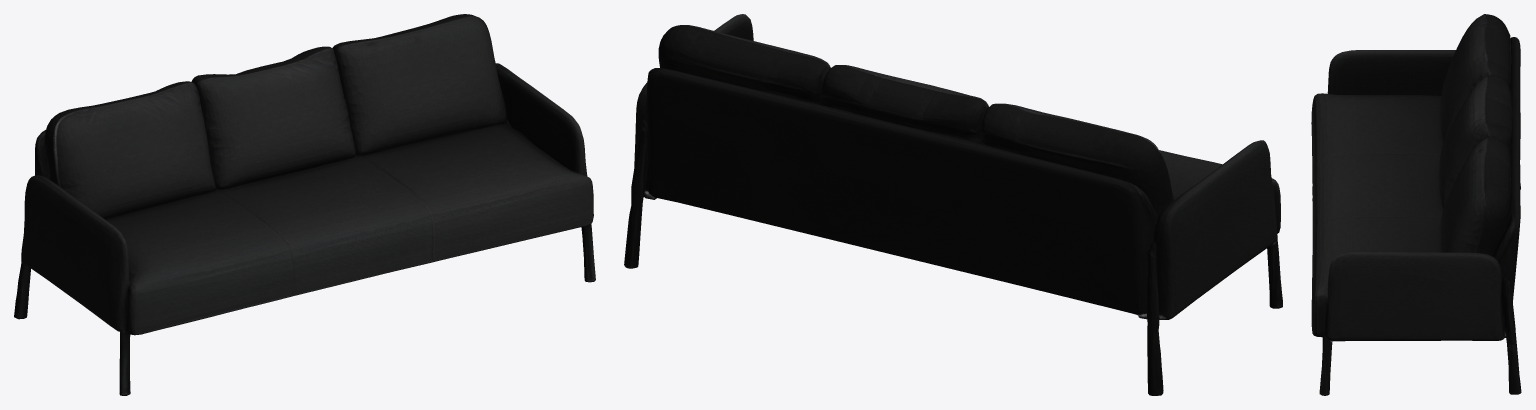
The picture shows the model from 3 angles, left to right: view 1: azimuth 30°, elevation 25°; view 2: azimuth 150°, elevation 25°; view 3: azimuth 270°, elevation 25°; orthographic projection. The views are drawn at different scales.
Parts seen in each view (by area): view 1: geometry_0; view 2: geometry_0; view 3: geometry_0.
Part boxes in pixels (box(x1,y1,x2,y2)): geometry_0: box(14, 14, 595, 395); geometry_0: box(624, 14, 1282, 395); geometry_0: box(1311, 14, 1521, 395).
Size of the model in its own units: 0.9986 by 0.4173 by 0.4223.
1 material, 1 textured.
